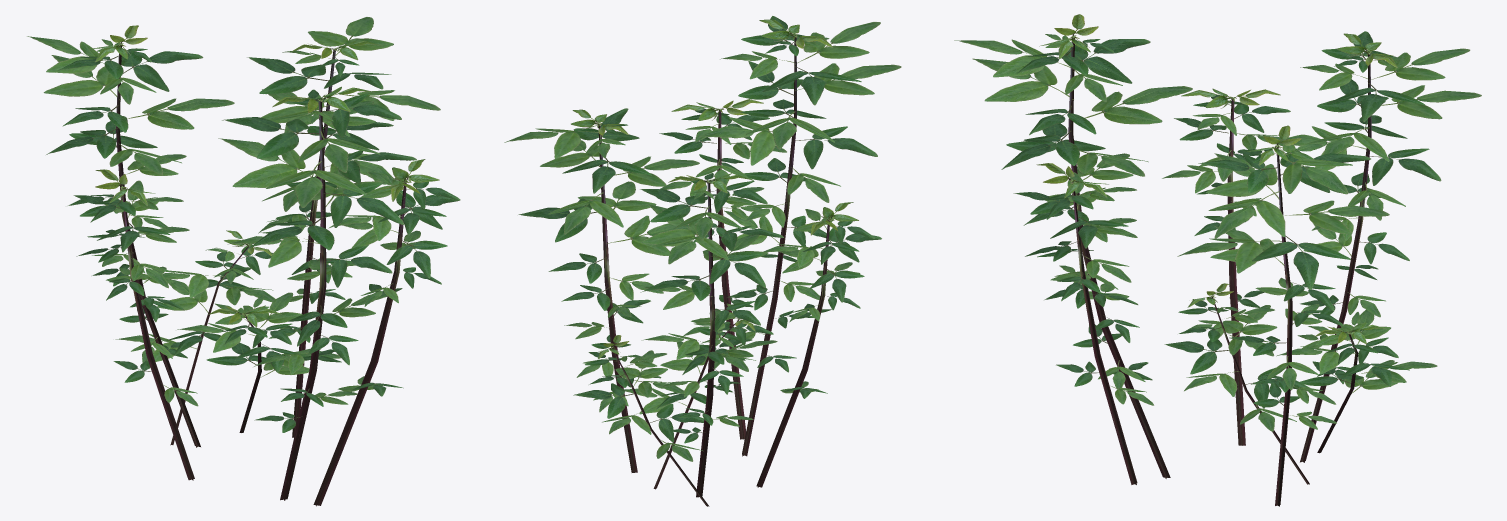
File: m_grass_33_1.fbx
3 views of the same model, side by side, from view 1: azimuth 30°, elevation 25°; view 2: azimuth 150°, elevation 25°; view 3: azimuth 270°, elevation 25° (orthographic). The views are drawn at different scales.
Visible parts, largest first — view 1: mesh_grass_33_1_LOD0; view 2: mesh_grass_33_1_LOD0; view 3: mesh_grass_33_1_LOD0.
Part boxes in pixels (x1,y1,x2,y2): mesh_grass_33_1_LOD0: (27,17,460,506); mesh_grass_33_1_LOD0: (504,16,901,506); mesh_grass_33_1_LOD0: (954,14,1481,506).
Size of what is drawn, in the model's own units: 44.37 by 51.68 by 58.56.
